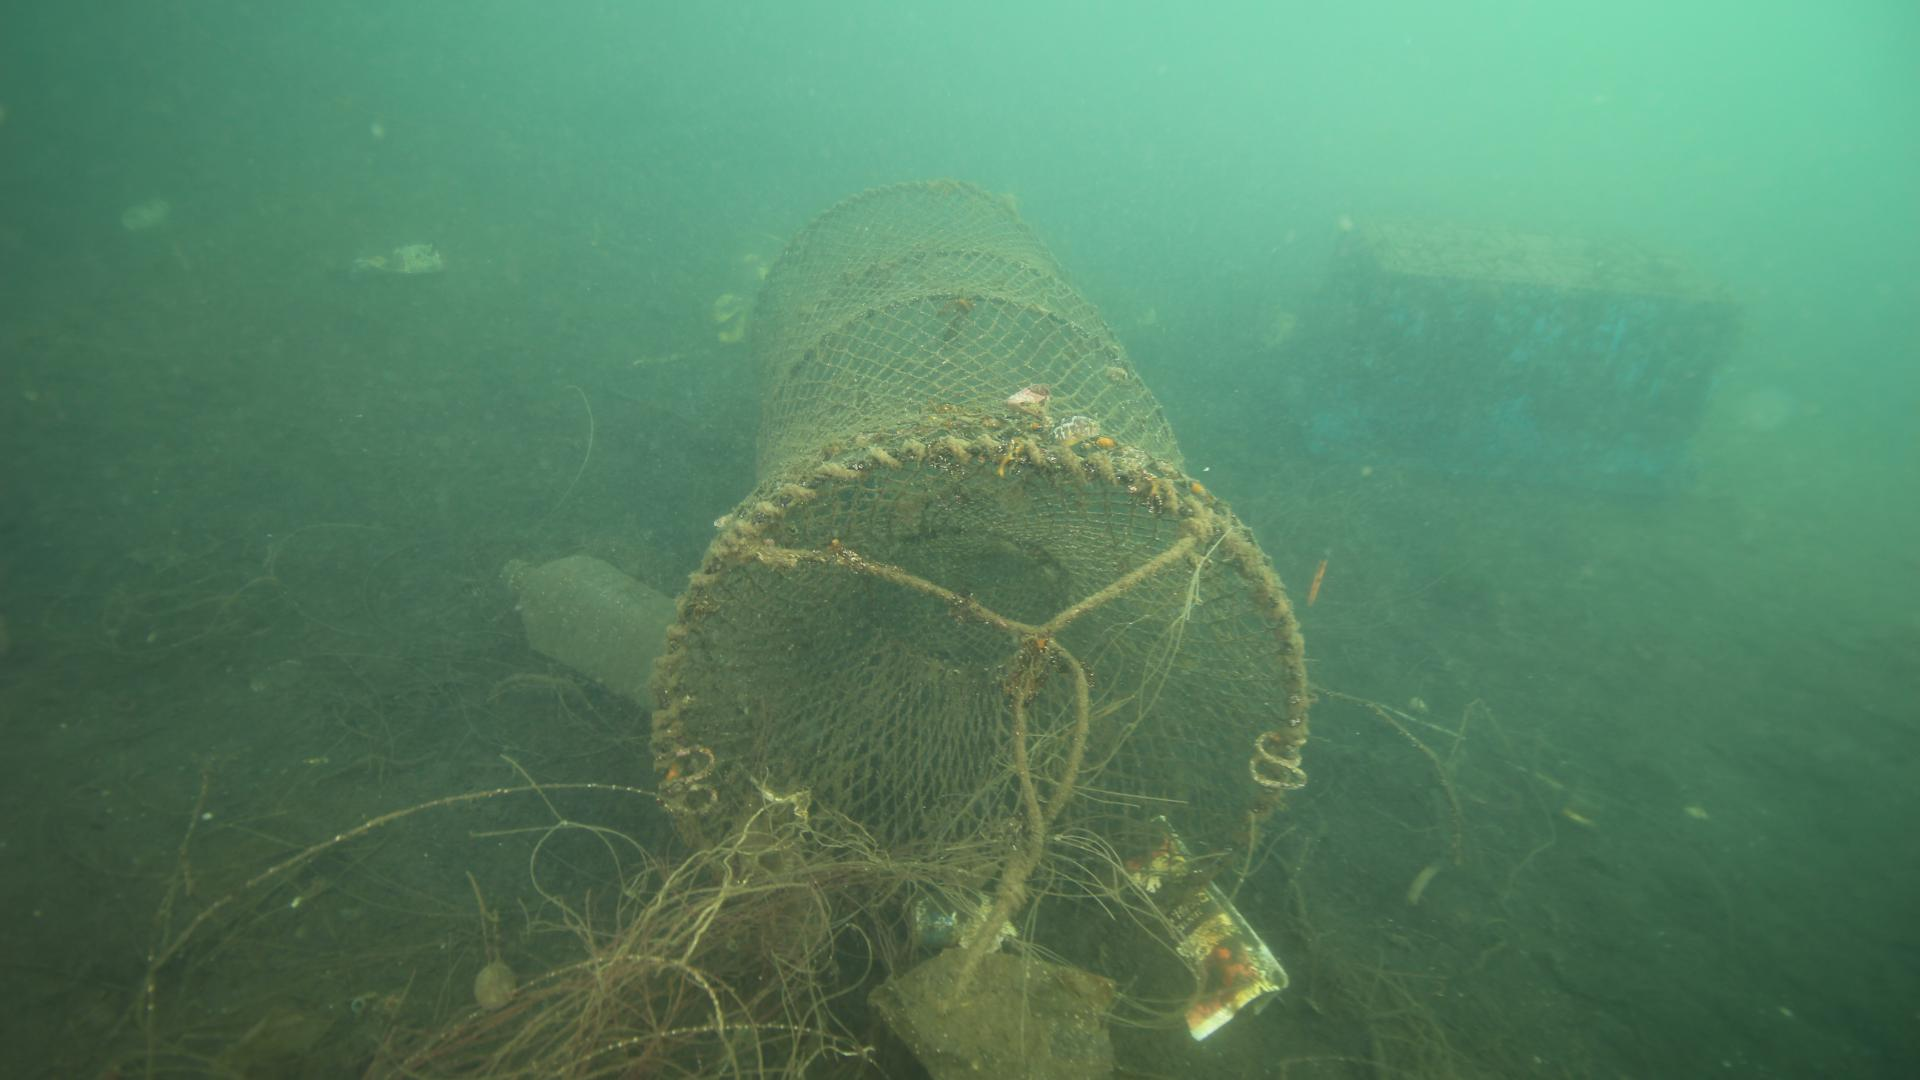spring fish trap: (654, 173, 1309, 909)
